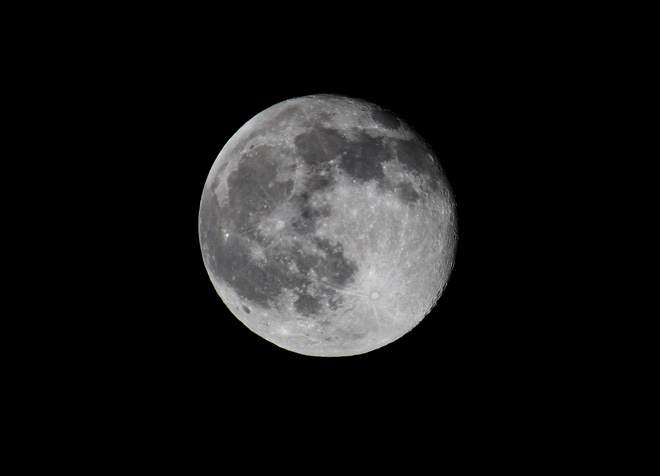crater: (348, 271, 393, 314), (267, 210, 290, 235), (243, 142, 262, 154)
